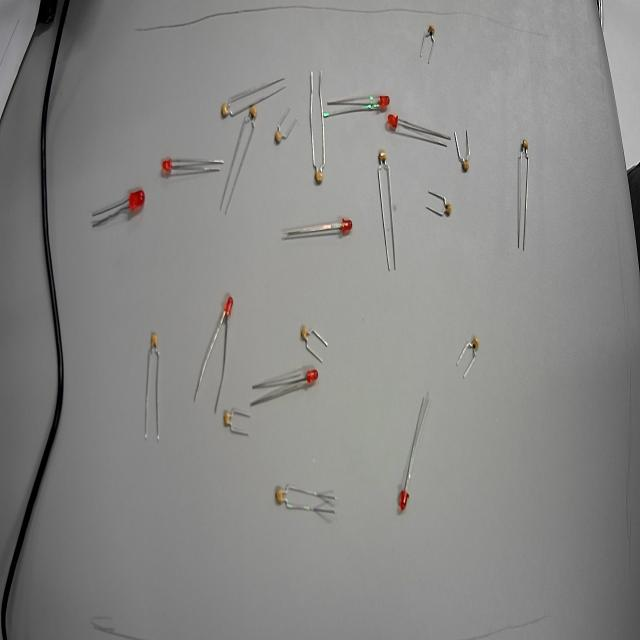LED_red: (120, 178, 148, 221), (272, 476, 290, 509), (383, 107, 403, 134), (395, 480, 411, 512), (220, 286, 235, 320), (302, 361, 320, 389), (159, 150, 175, 181), (374, 87, 392, 114), (338, 212, 354, 241)
capacitor: (514, 125, 536, 168), (434, 189, 456, 222), (466, 320, 484, 358), (310, 155, 329, 190), (144, 323, 161, 357), (457, 150, 476, 180), (216, 404, 236, 431), (296, 315, 312, 348), (217, 89, 232, 123), (372, 140, 389, 168), (244, 102, 263, 125), (271, 120, 284, 150), (424, 20, 438, 42)
